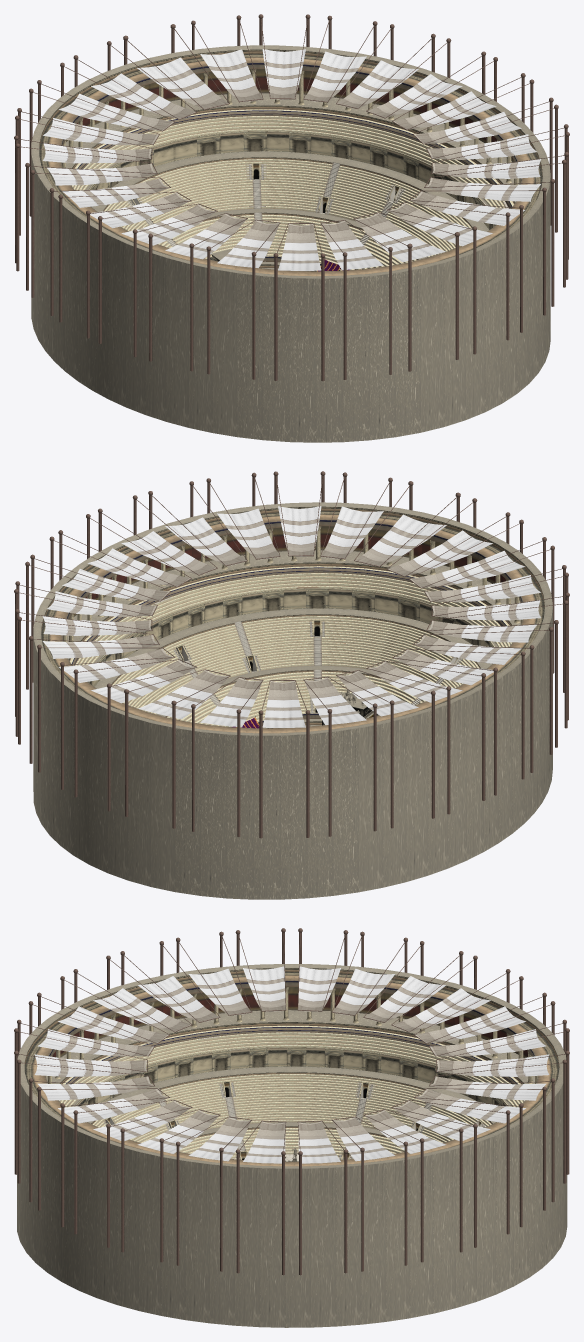
Rendered from Colosseum.glb.
3 renders of one model, top to bottom at view 1: azimuth 30°, elevation 25°; view 2: azimuth 150°, elevation 25°; view 3: azimuth 270°, elevation 25°, orthographic. The views are drawn at different scales.
Parts seen in each view (by area): view 1: outerwall, Awningsails, Awnings3, mesh_seats4, mesh_insidewall2, mesh_top_ceiling, mesh_top_rim, mesh_walkway1, mesh_rim5, mesh_walkway, topinsidewall, mesh_inside_Pillars (+3 smaller); view 2: outerwall, Awningsails, Awnings3, mesh_seats4, mesh_insidewall2, mesh_top_ceiling, mesh_top_rim, mesh_walkway1, mesh_rim5, mesh_walkway, topinsidewall, mesh_inside_Pillars (+3 smaller); view 3: outerwall, Awningsails, Awnings3, mesh_seats4, mesh_insidewall2, mesh_top_ceiling, mesh_top_rim, mesh_walkway, mesh_rim5, mesh_walkway1, topinsidewall, mesh_inside_Pillars (+1 smaller).
Boxes of the visible parts, box(x1,y1,x2,y2) form: outerwall: box(31, 45, 550, 442); Awningsails: box(42, 49, 541, 270); Awnings3: box(14, 14, 569, 381); mesh_seats4: box(72, 116, 508, 269); mesh_insidewall2: box(90, 131, 495, 229); mesh_top_ceiling: box(39, 54, 542, 276); mesh_top_rim: box(39, 49, 542, 259); mesh_walkway1: box(86, 151, 488, 259); mesh_rim5: box(62, 63, 521, 270); mesh_walkway: box(66, 93, 518, 201); topinsidewall: box(66, 69, 513, 162); mesh_inside_Pillars: box(61, 69, 520, 184); outerwall: box(33, 502, 552, 899); Awningsails: box(42, 506, 540, 727); Awnings3: box(14, 471, 569, 838); mesh_seats4: box(75, 573, 512, 725); mesh_insidewall2: box(88, 588, 493, 686); mesh_top_ceiling: box(41, 511, 544, 733); mesh_top_rim: box(41, 506, 544, 717); mesh_walkway1: box(94, 608, 497, 716); mesh_rim5: box(63, 520, 522, 725); mesh_walkway: box(67, 550, 520, 659); topinsidewall: box(73, 526, 519, 616); mesh_inside_Pillars: box(63, 526, 522, 641); outerwall: box(17, 964, 567, 1327); Awningsails: box(34, 966, 549, 1163); Awnings3: box(14, 928, 569, 1275); mesh_seats4: box(59, 1032, 524, 1155); mesh_insidewall2: box(75, 1047, 508, 1106); mesh_top_ceiling: box(24, 972, 559, 1166); mesh_top_rim: box(24, 968, 559, 1137); mesh_walkway: box(46, 1010, 534, 1083); mesh_rim5: box(49, 981, 534, 1084); mesh_walkway1: box(72, 1066, 512, 1135); topinsidewall: box(52, 987, 527, 1057); mesh_inside_Pillars: box(46, 987, 537, 1083).
Size of the model in its own units: 17011 by 7117 by 17763.
Materials: 100 (100 with a texture image).
